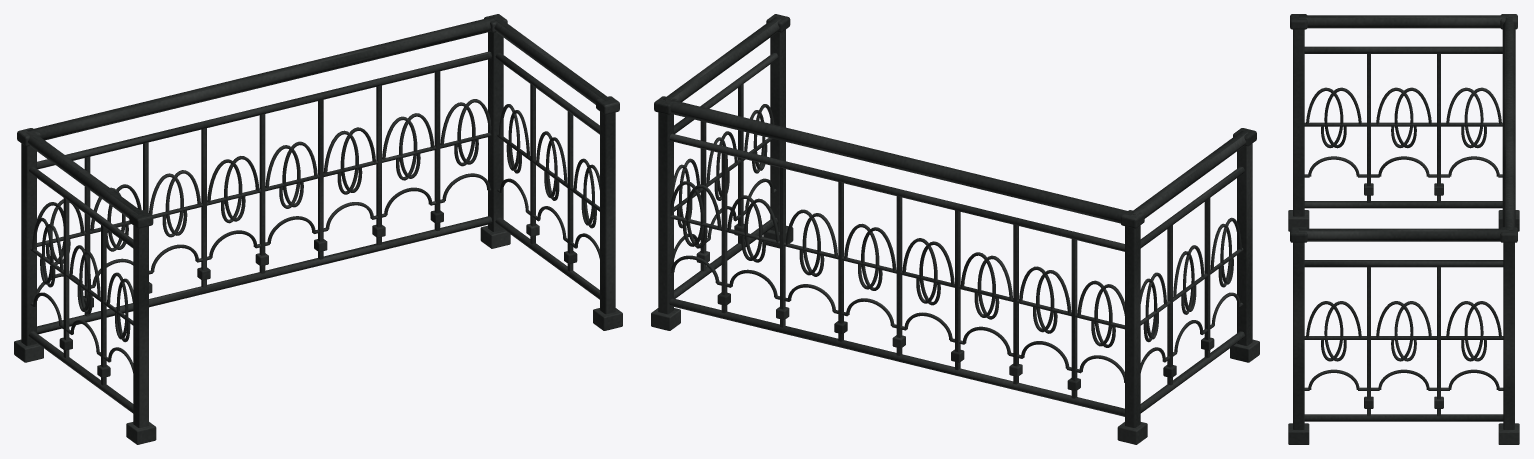
Rendered from ornate-balcony-railing.glb.
3 renders of one model, left to right at view 1: azimuth 30°, elevation 25°; view 2: azimuth 150°, elevation 25°; view 3: azimuth 270°, elevation 25°, orthographic. The views are drawn at different scales.
Visible parts, largest first — view 1: ornate-balcony-railing; view 2: ornate-balcony-railing; view 3: ornate-balcony-railing.
Part boxes in pixels (x1,y1,x2,y2): ornate-balcony-railing: (14, 14, 622, 444); ornate-balcony-railing: (651, 14, 1259, 444); ornate-balcony-railing: (1288, 14, 1519, 444).
Size of the model in its own units: 2.5 by 1.11 by 1.1.
1 material, 1 textured.
